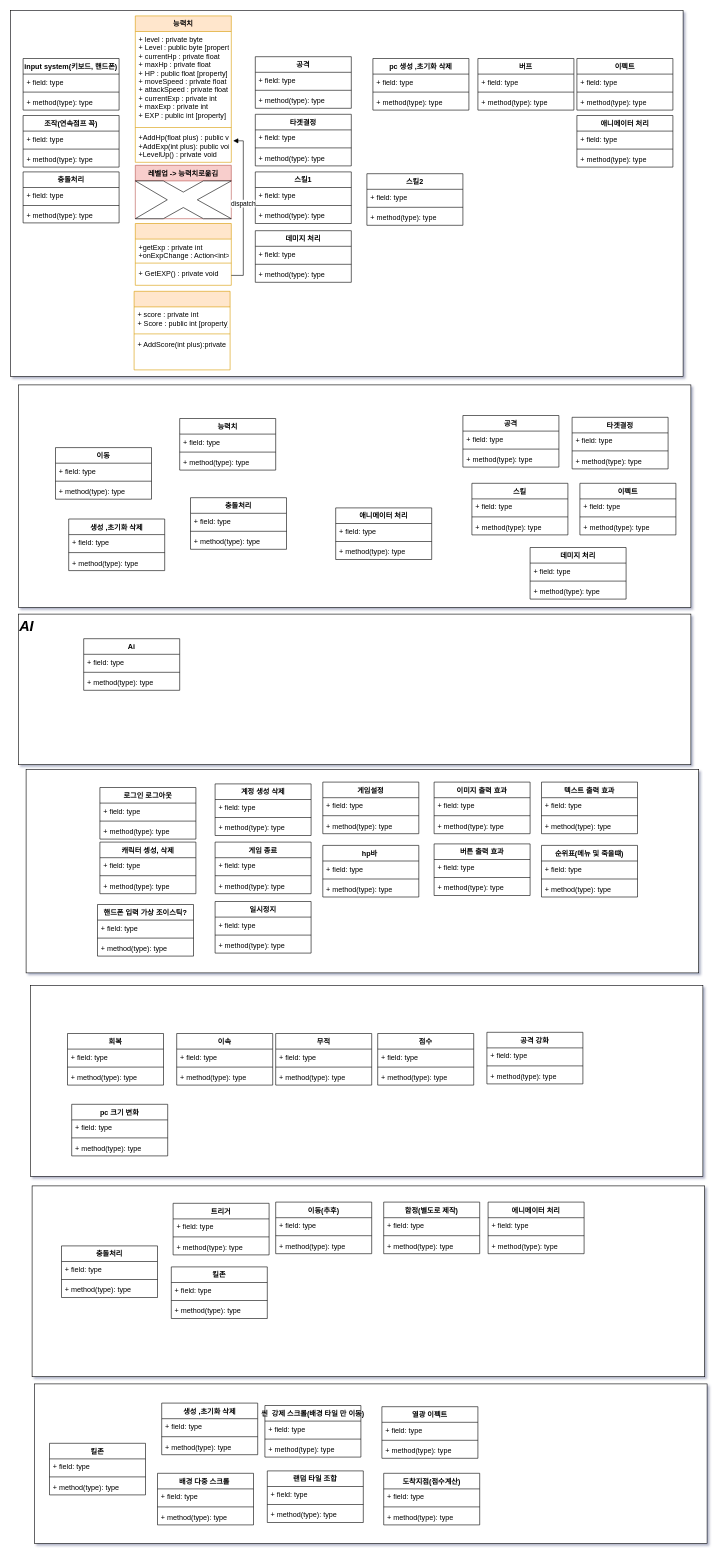
Image size: 721x1558. Some labels were removed from this diagram. The shapes that lost their labels are listed below. From the top down, each one's box as (x1, y1, x2, y2) in pixels, then its label:
(10, 10, 683, 376): GameObject player
(135, 223, 231, 285): 경험치 획득
(134, 291, 230, 370): 점수 획득
(18, 384, 691, 608): GameObject enemy
(26, 769, 699, 973): GameObject Ui
(30, 985, 703, 1176): GameObject item
(32, 1185, 705, 1377): GameObject 지형(tile)
(34, 1383, 707, 1544): GameObject 스테이지(scene)
